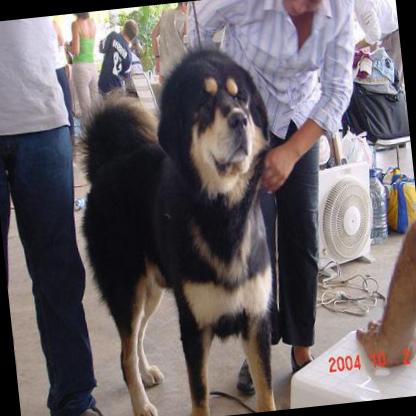Tibetan_mastiff: (60, 37, 302, 416)
